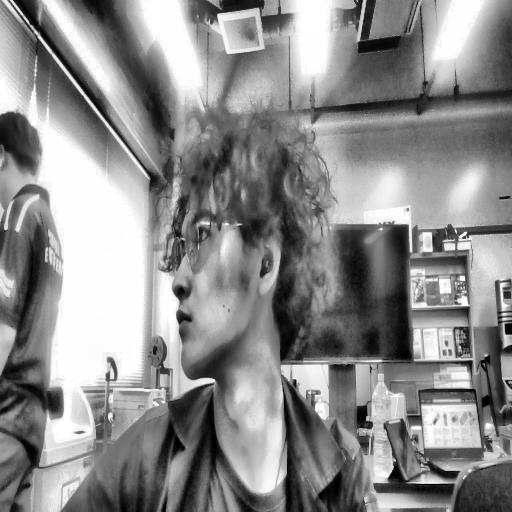Daifuku: (158, 112, 331, 390)
Not Daifuku: (0, 104, 39, 209)
